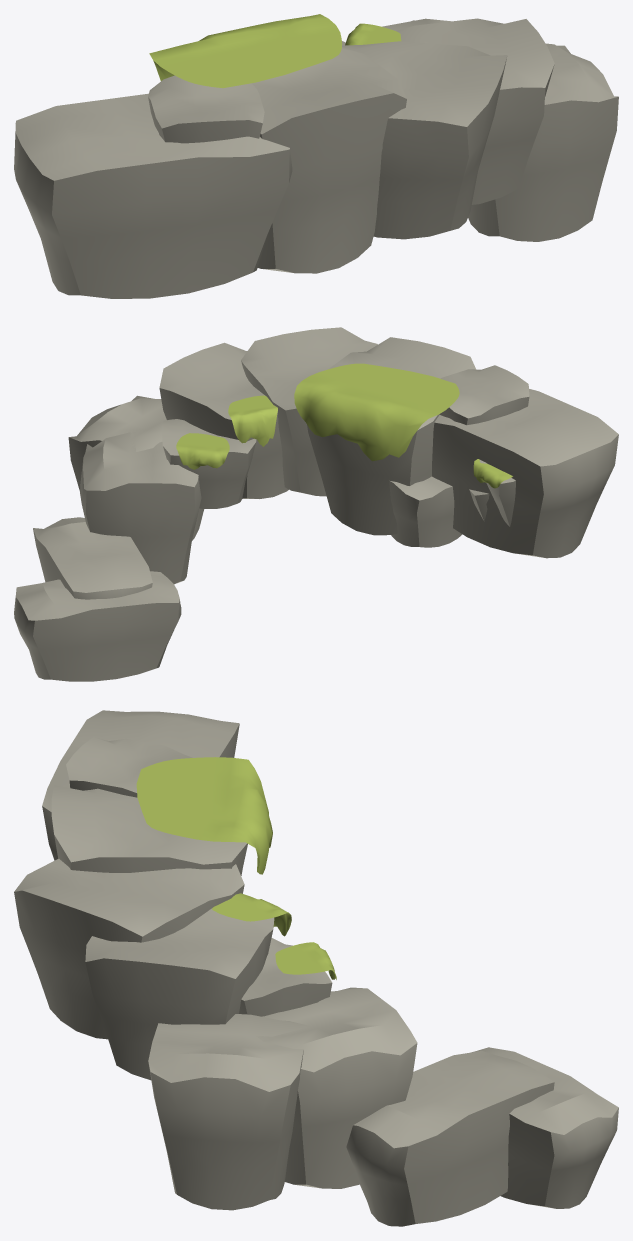
File: fels new.fbx
3 views of the same model, one above another, from view 1: azimuth 30°, elevation 25°; view 2: azimuth 150°, elevation 25°; view 3: azimuth 270°, elevation 25° (orthographic). The views are drawn at different scales.
Visible parts, largest first — view 1: Felsen2; view 2: Felsen2; view 3: Felsen2.
Part boxes in pixels (box(x1,y1,x2,y2)): Felsen2: box(14, 14, 618, 298); Felsen2: box(14, 327, 618, 681); Felsen2: box(14, 710, 618, 1226).
Bounding box in the file's own units: 294 × 134 × 255.
